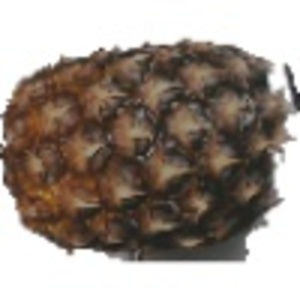abacaxi: (1, 34, 292, 248)
